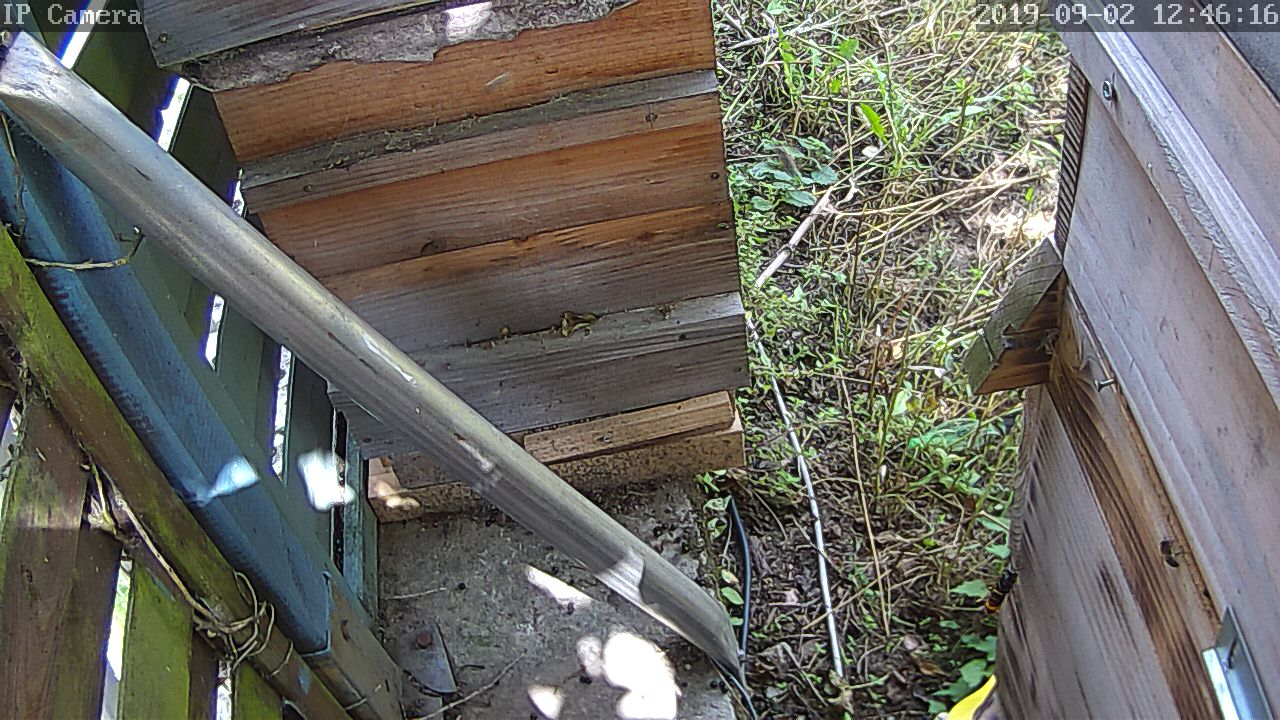bee: (1156, 536, 1183, 573)
hornet: (980, 557, 1024, 623)
